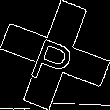P_N: (29, 25, 81, 85)
